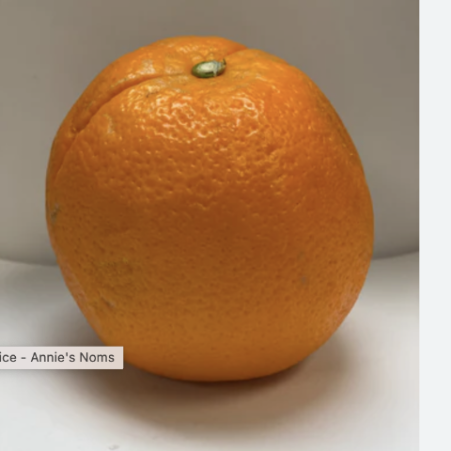orange: (19, 15, 391, 382)
